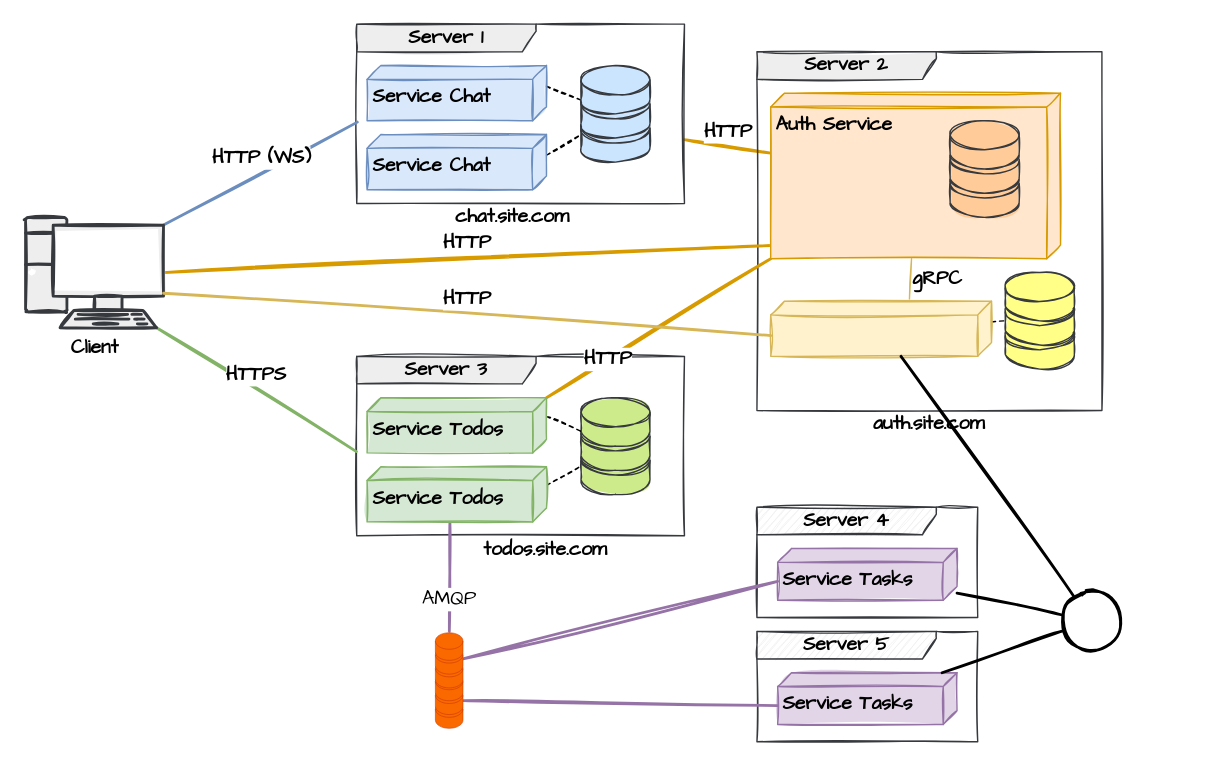
Some shapes in this 1224 by 766 pixel diagram are drawn without their labels. Here are the shapes that lost their labels. From the top down, the centre of each, then its label:
point 615,113: DB Chat
point 984,168: DB Auth
point 880,328: Service Profiles
point 1039,320: DB Users
point 615,445: DB Todos
point 1090,620: Message Broker
